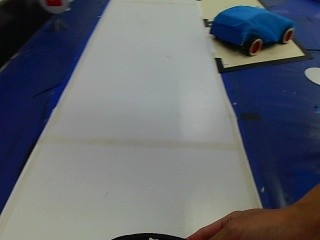car: (206, 6, 301, 58)
